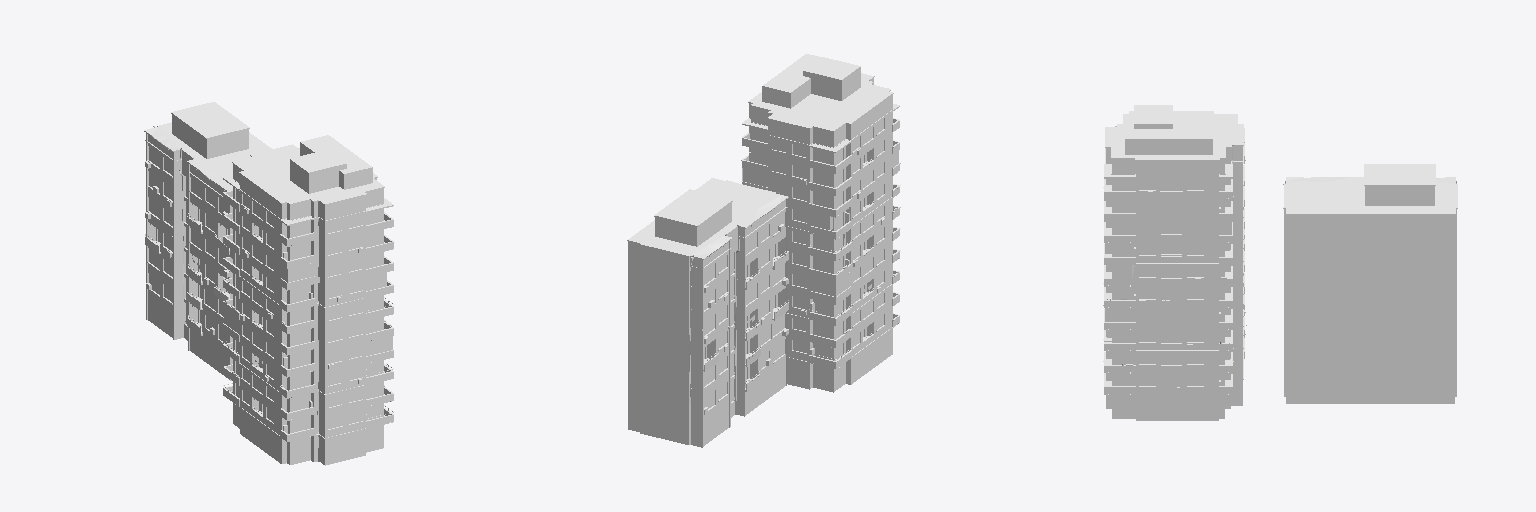
File: builds.obj
The picture shows the model from 3 angles: view 1: azimuth 30°, elevation 25°; view 2: azimuth 150°, elevation 25°; view 3: azimuth 270°, elevation 25°; orthographic projection.
Parts seen in each view (by area): view 1: 12.1.99.0; view 2: 12.1.99.0; view 3: 12.1.99.0.
Boxes of the visible parts, x1=… form: 12.1.99.0: x1=144, y1=102, x2=393, y2=465; 12.1.99.0: x1=627, y1=54, x2=900, y2=447; 12.1.99.0: x1=1103, y1=105, x2=1457, y2=420.
Size of the model in its own units: 36.23 by 92.74 by 106.